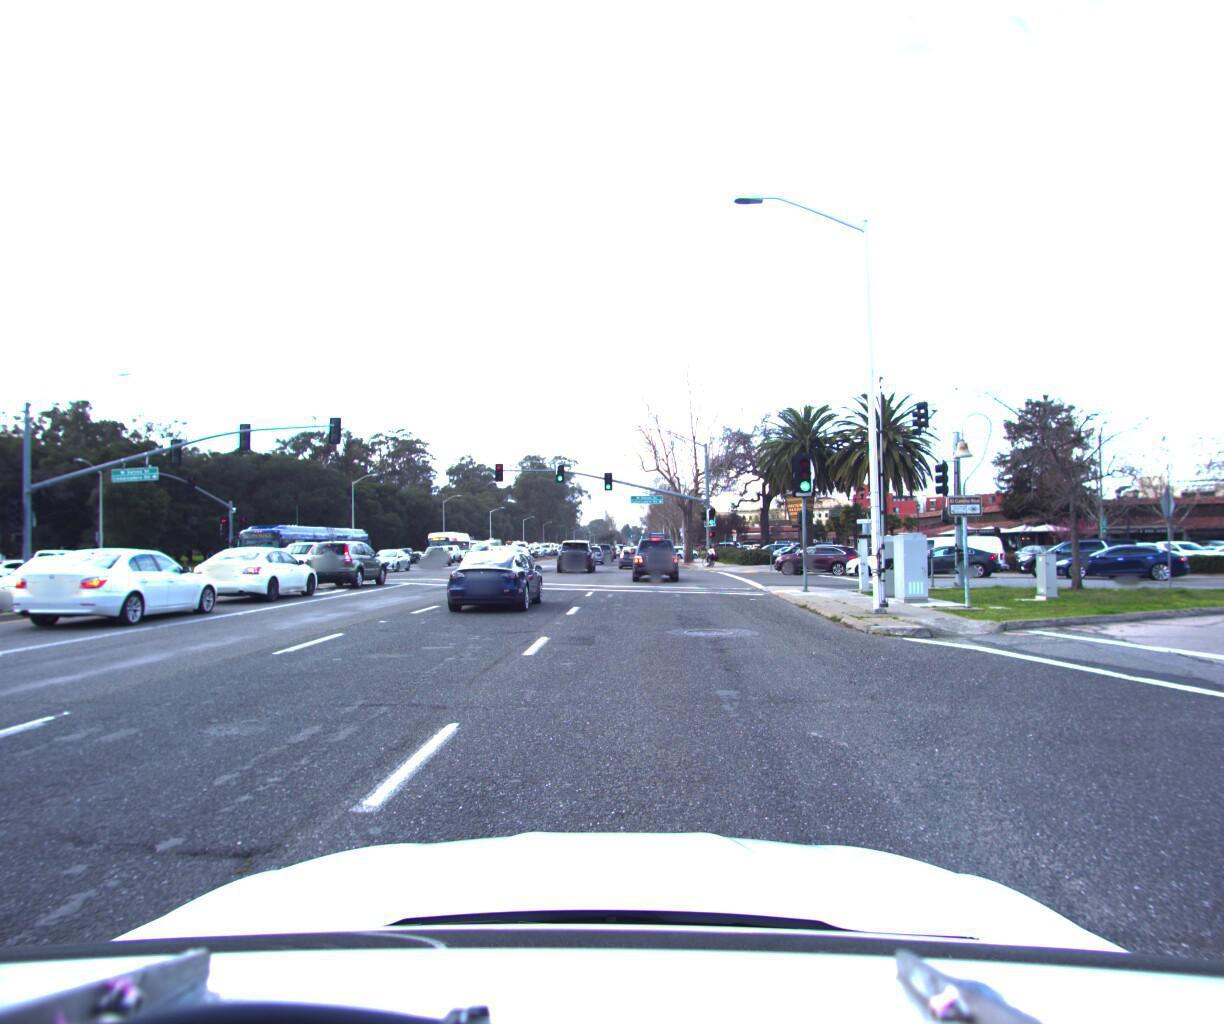bicycle: (702, 537, 717, 561)
bus: (228, 517, 379, 576)
car: (1, 544, 229, 633), (187, 542, 331, 602), (442, 546, 546, 616), (886, 527, 1009, 573), (1011, 530, 1139, 574), (1044, 536, 1185, 574), (301, 536, 395, 587), (0, 545, 118, 583), (883, 537, 1000, 573), (766, 536, 867, 570), (839, 539, 944, 571), (1133, 532, 1224, 564), (630, 527, 677, 579), (554, 534, 594, 570), (365, 544, 414, 569), (493, 542, 535, 568), (417, 542, 451, 564), (613, 541, 642, 565), (429, 539, 460, 558), (1207, 535, 1224, 563), (584, 540, 607, 559), (600, 537, 621, 556)
